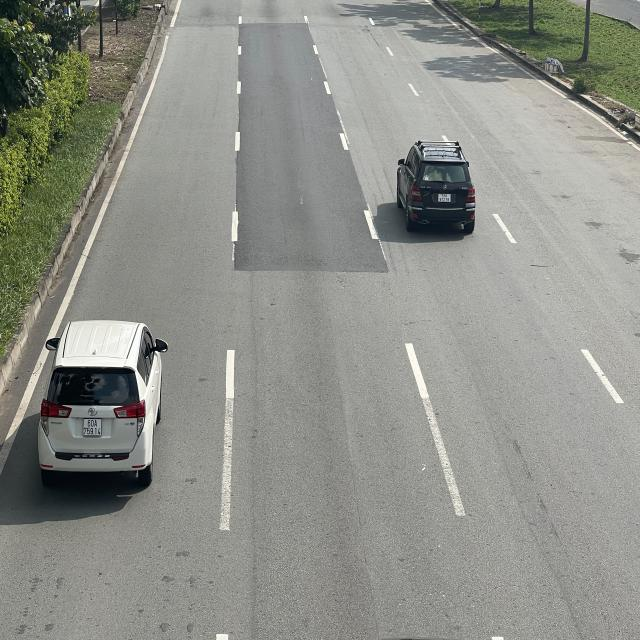car: (39, 321, 170, 489), (394, 138, 476, 232)
